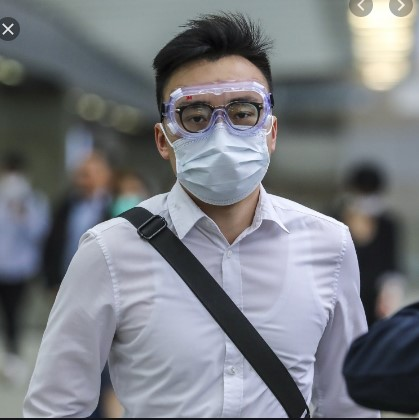face_with_mask: (154, 45, 279, 210)
